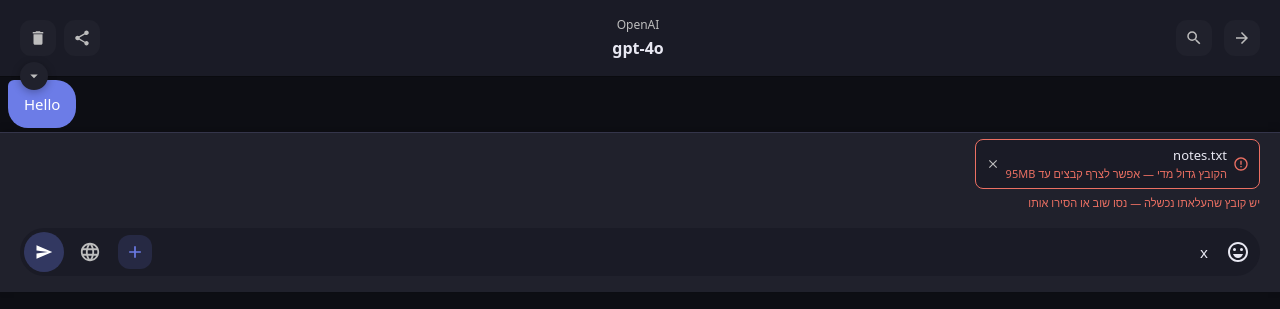
Scenario: ChatPage — attaching files › an upload refused as too large by the server (413) fails without a retry; removing it unblocks sending
Earlier steps of the test are not shown.
Expected: the message "הקובץ גדול מדי — אפשר לצרף קבצים עד 95MB" is shown, [1006,166,1227,182]
Click the button named "Remove attachment".
click(993, 164)  # box [986,157,1000,171]
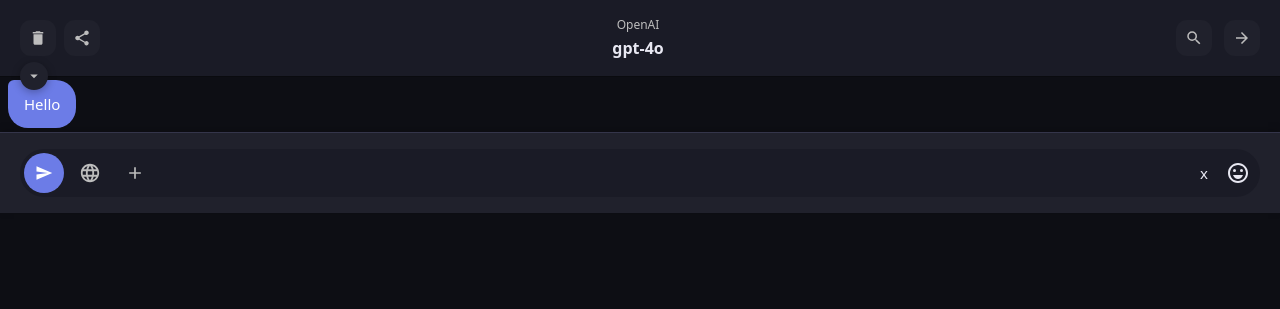
Result: no elements with test id "draft-attachment" are shown
Result: the button named "Send message" is enabled at [24,153,64,193]
